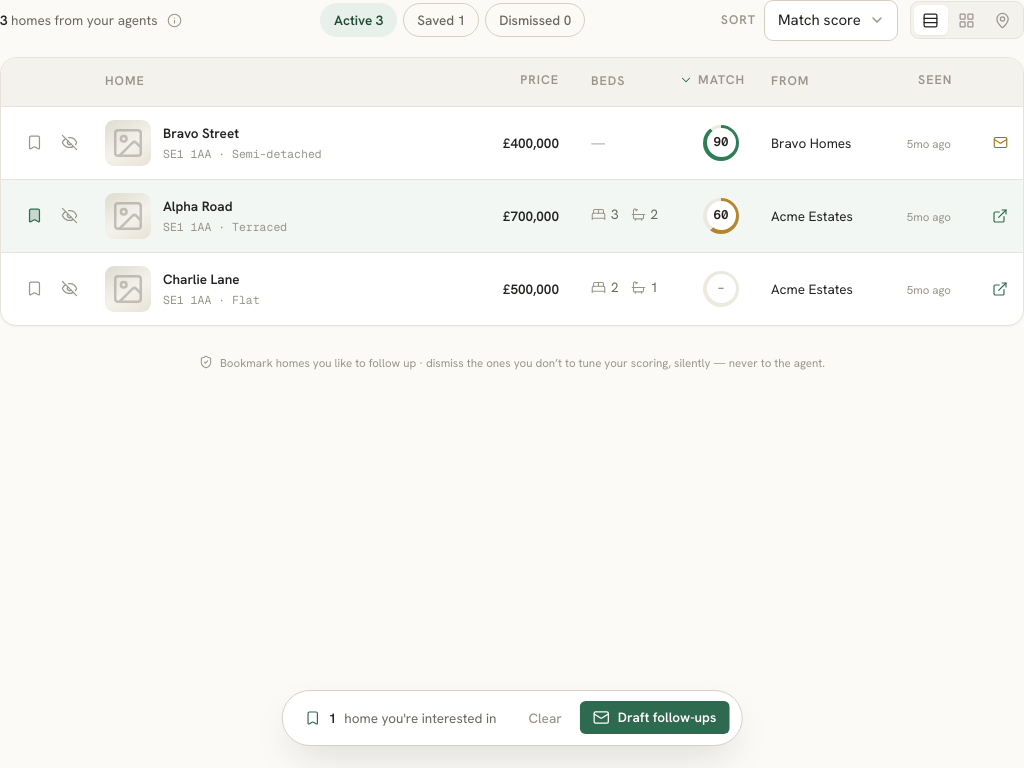
Test: ListingsPage interest + follow-ups › 'Send' is a mock that flips to the sent success state
Click the button with test id "draft-followups" at (655,718), box [580,701,729,734]
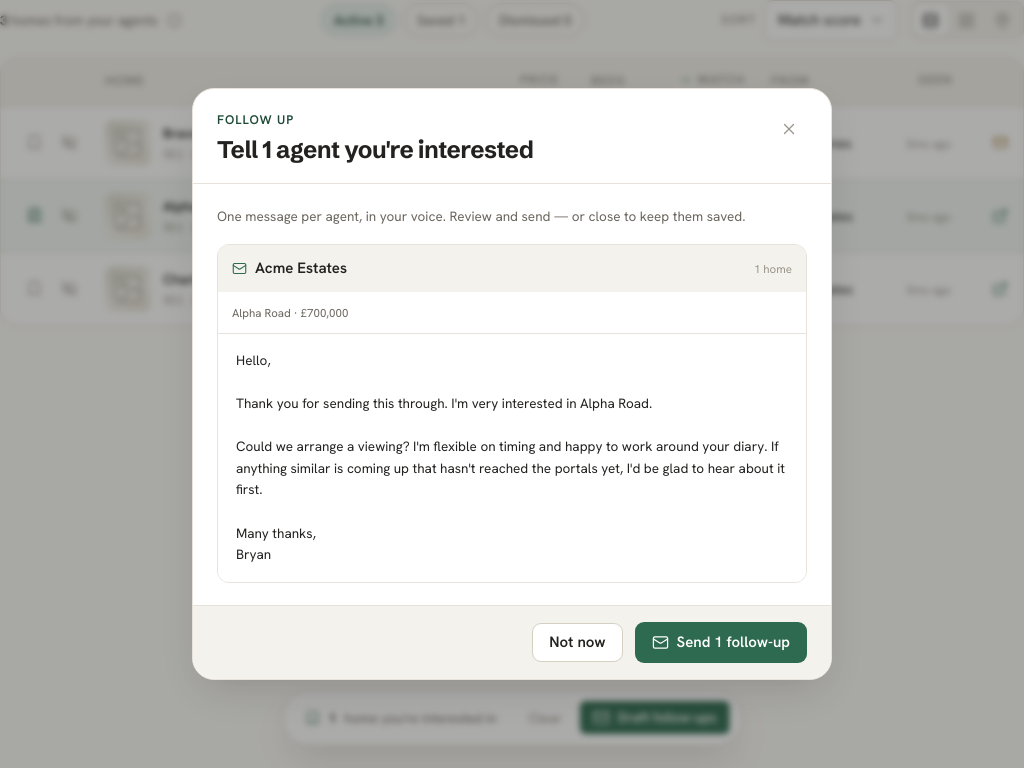
Click the button with test id "followup-send" at (721,642), box [635,622,807,663]
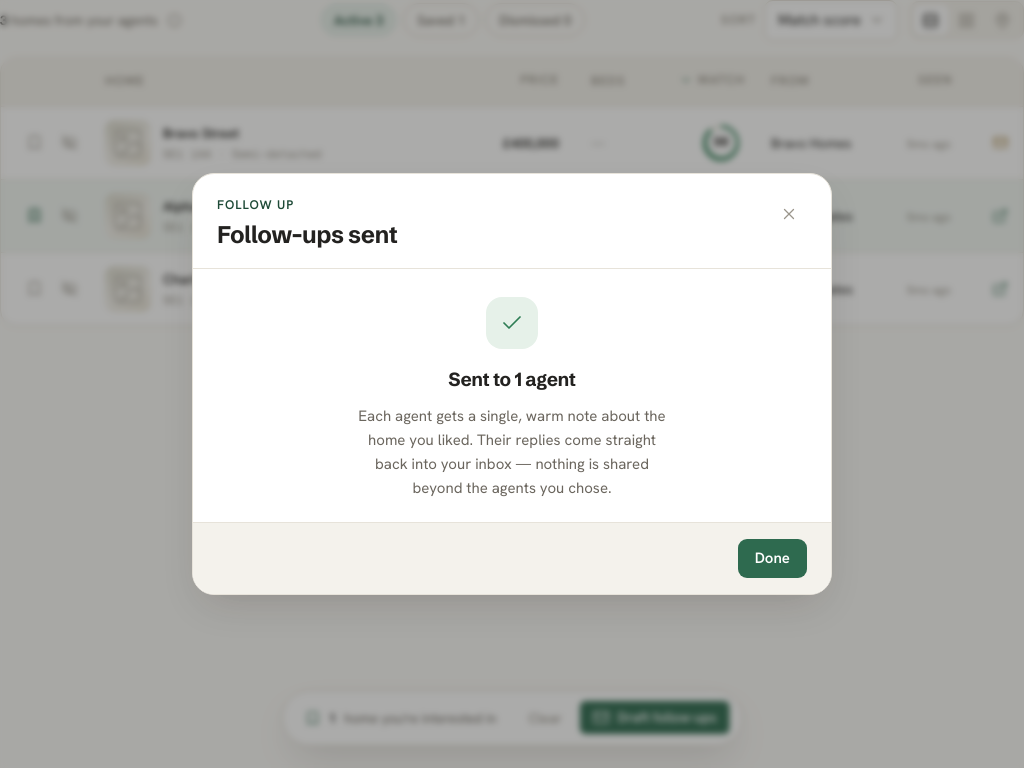
Now the element with test id "followup-sent" is shown, box [358,297,666,498]
Now the heading "Sent to 1 agent" is shown, box [448,367,576,391]
